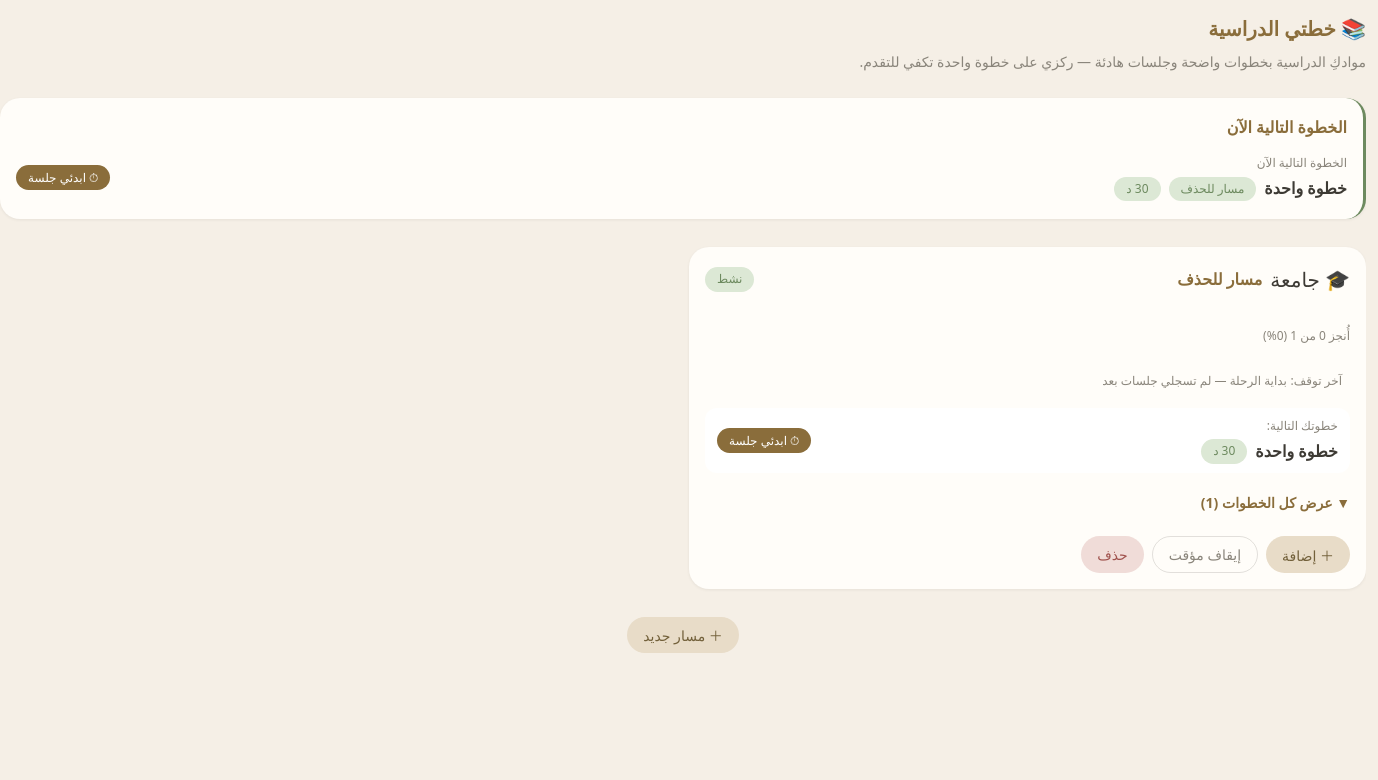
Test: MyPlan — تأكيد حذف المسار › الضغطة الأولى تسأل، والإلغاء يبقيه، والتأكيد يحذف المسار وخطواته
Expected: the heading "مسار للحذف" is shown, left=1177, top=266, right=1262, bottom=293
Click the button "حذف".
click(1112, 555)  # box left=1081, top=536, right=1144, bottom=573
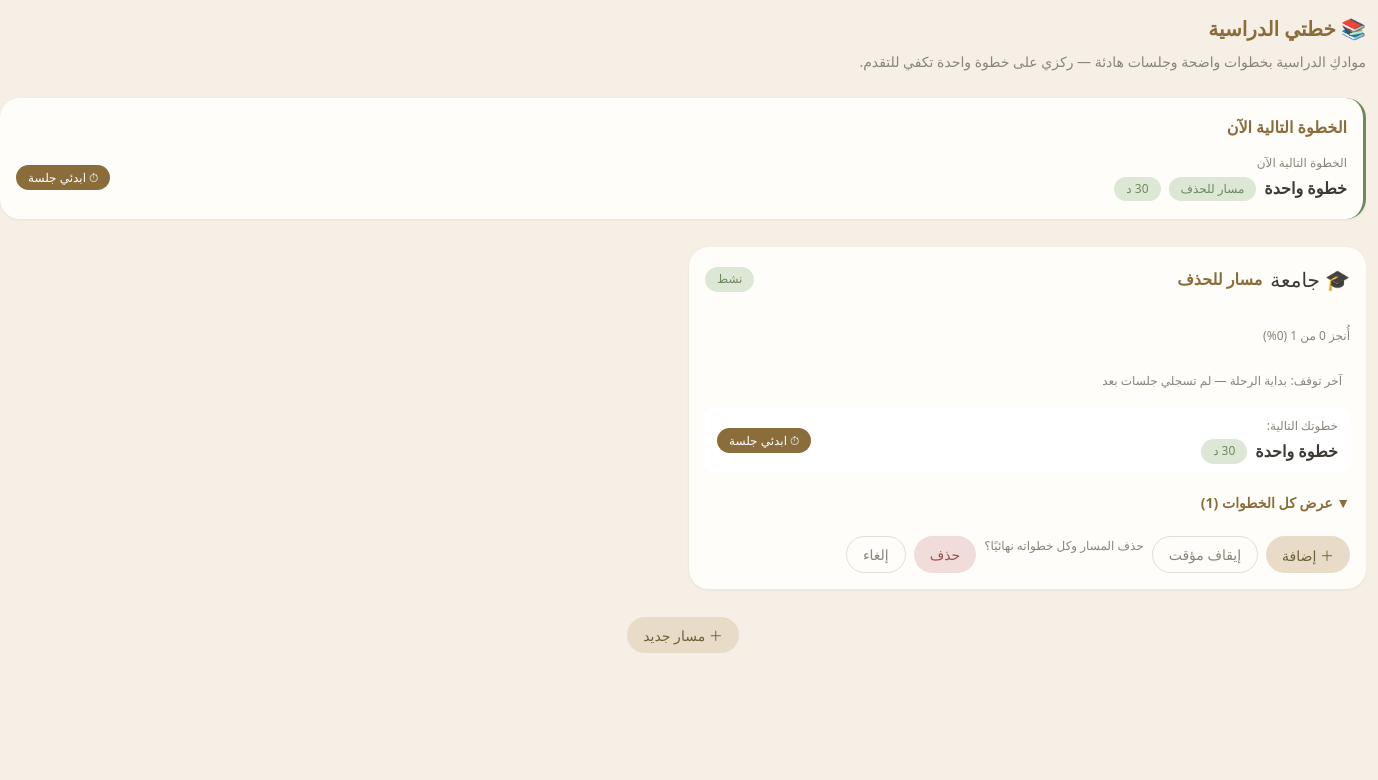
Expected: the heading "مسار للحذف" is shown, left=1177, top=266, right=1262, bottom=293
Now the text "حذف المسار وكل خطواته نهائيًا؟" is shown, box left=984, top=537, right=1144, bottom=554
# الإلغاء يبقي المسار
Click the button "إلغاء".
click(876, 555)  # box left=846, top=536, right=906, bottom=573
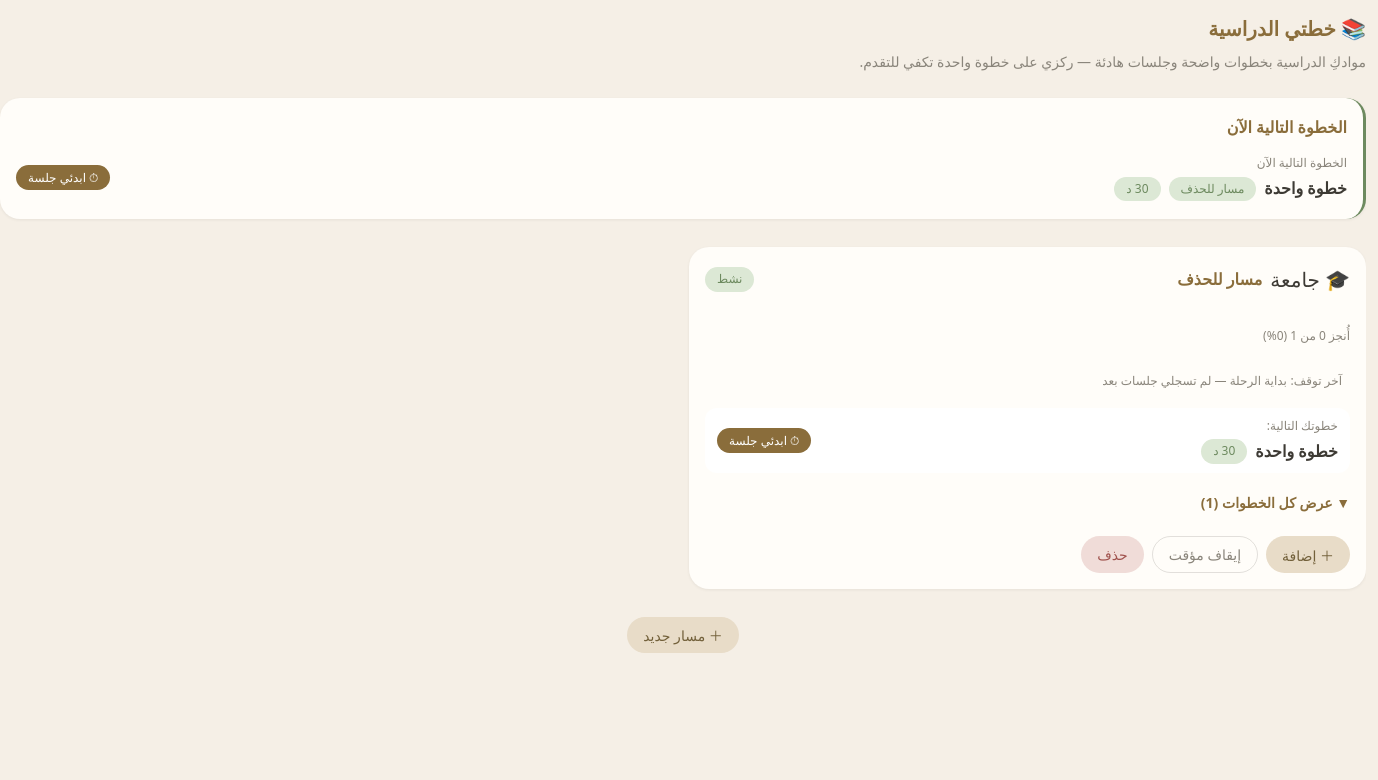
Expected: the heading "مسار للحذف" is shown, left=1177, top=266, right=1262, bottom=293
Now the text "حذف المسار وكل خطواته نهائيًا؟" is gone
Click the button "حذف".
click(1112, 555)  # box left=1081, top=536, right=1144, bottom=573
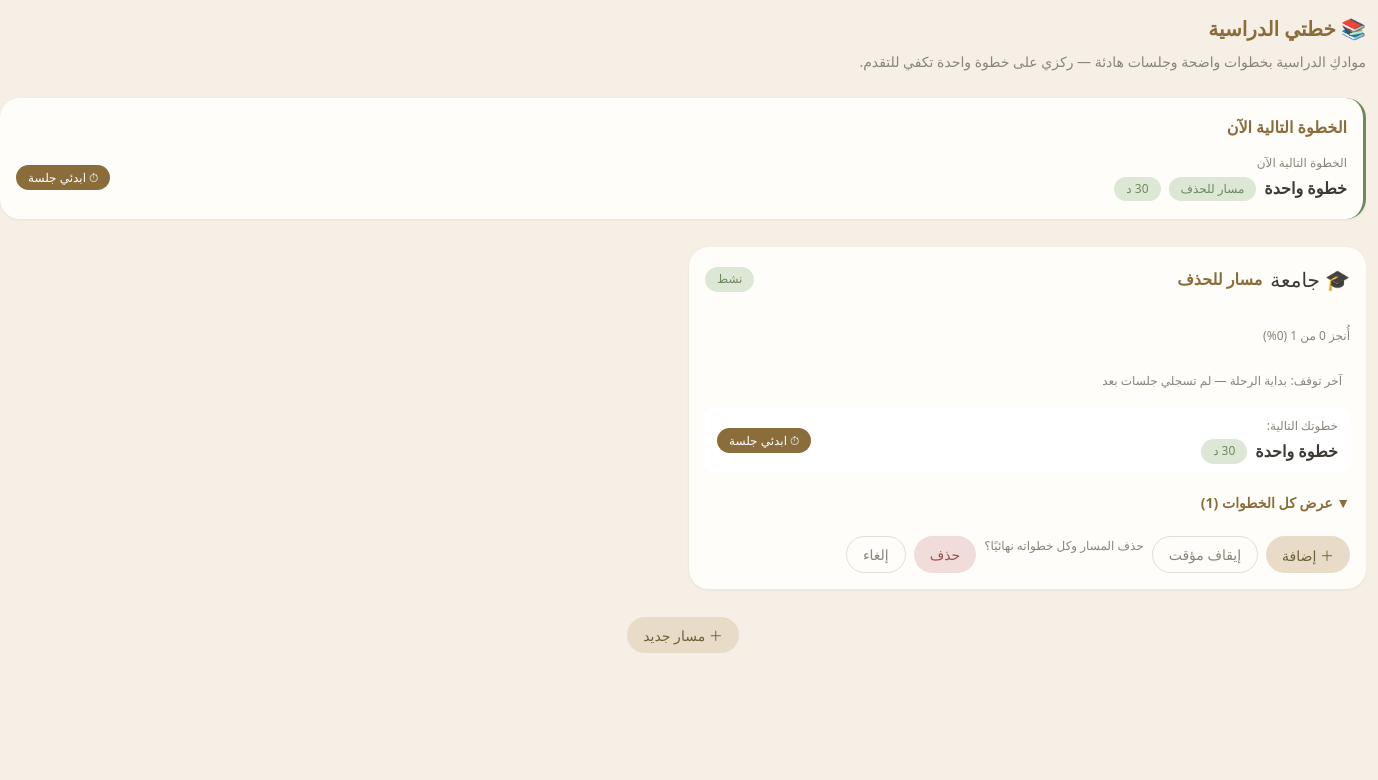
Click the button "حذف".
click(945, 555)  # box left=914, top=536, right=976, bottom=573
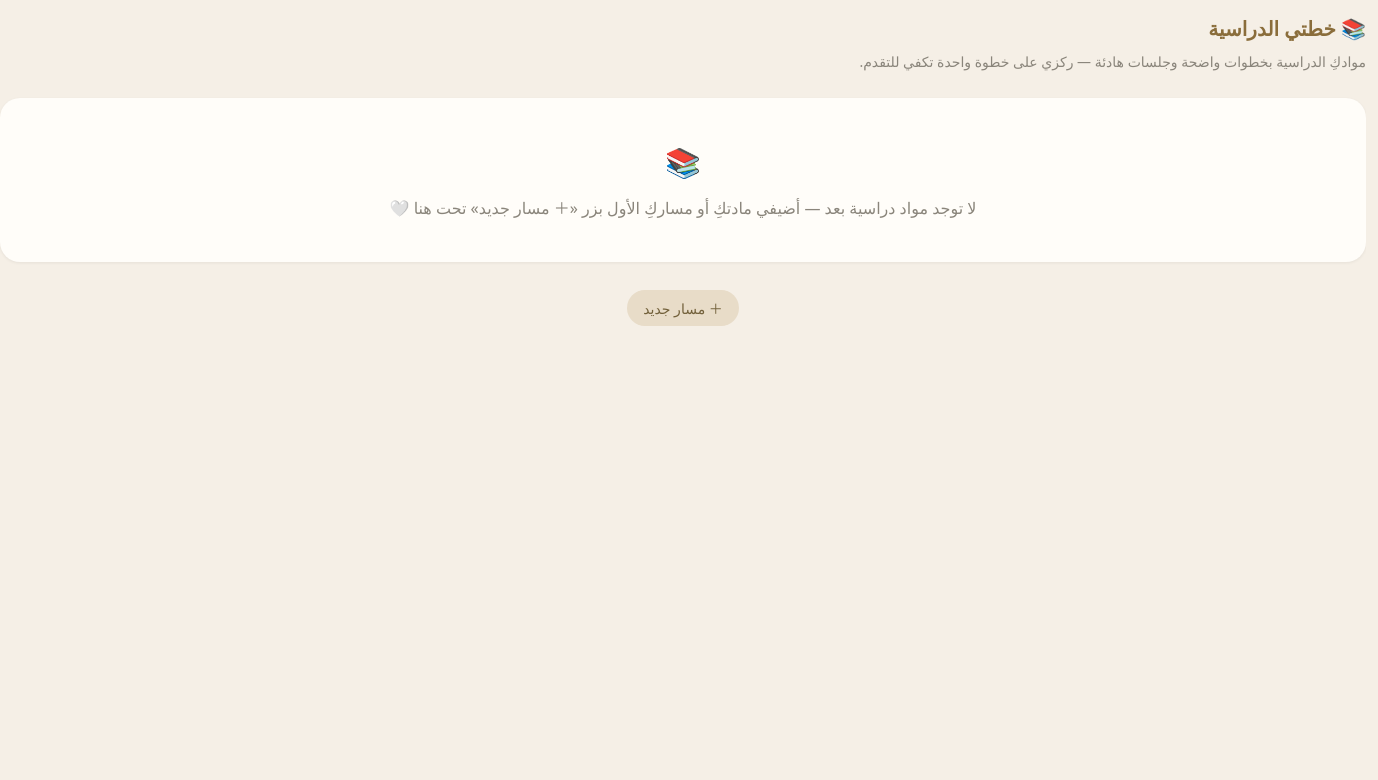
Now the text "مسار للحذف" is gone
